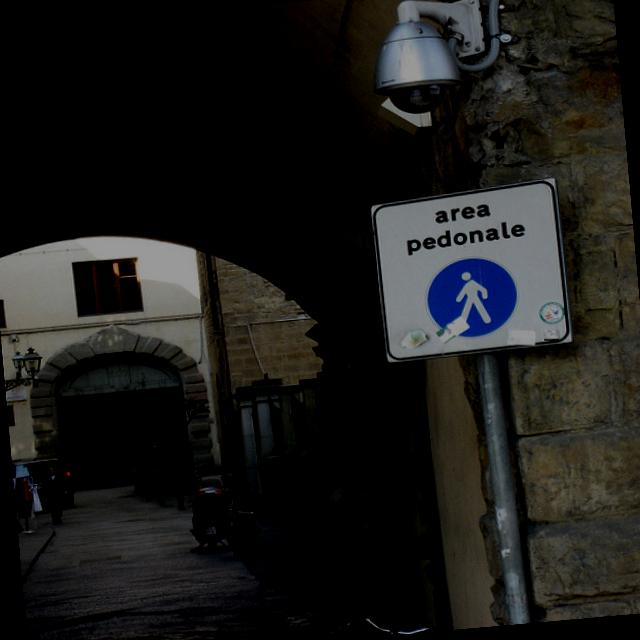Vehicle: (184, 484, 240, 552), (11, 453, 75, 512)
